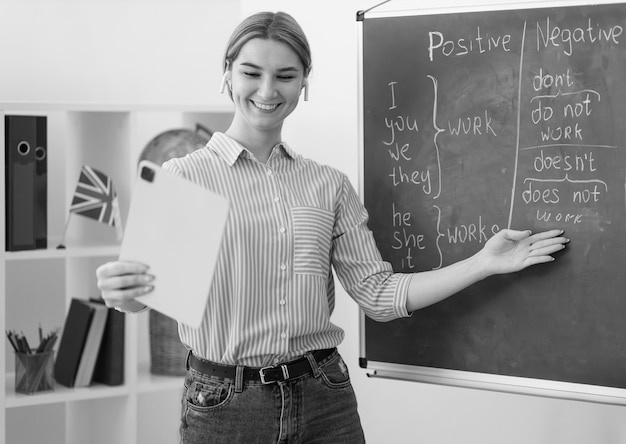pointing_gesture: (480, 226, 580, 277)
